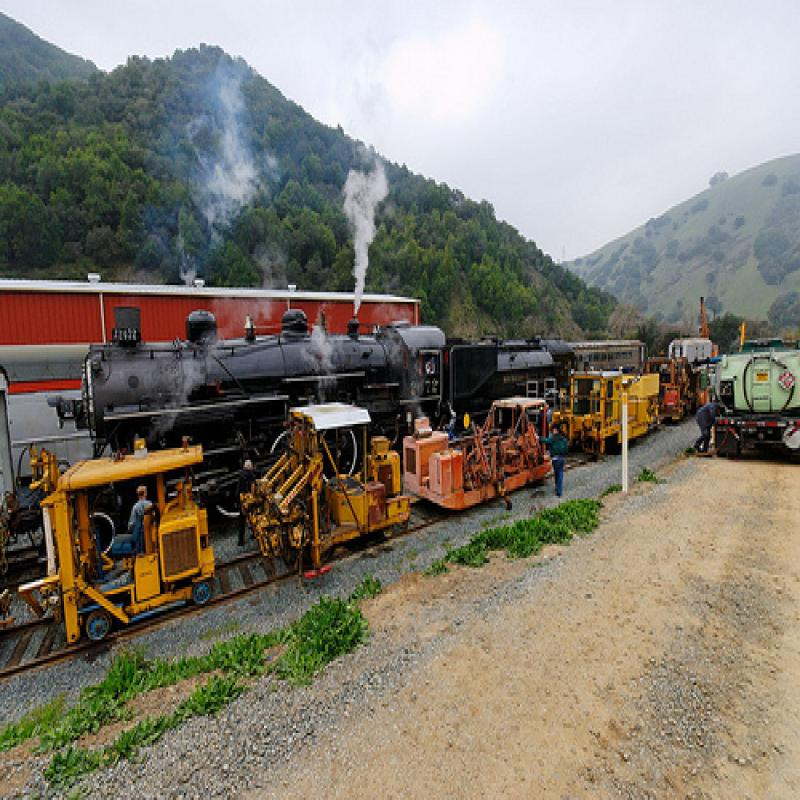train: (67, 305, 576, 521)
